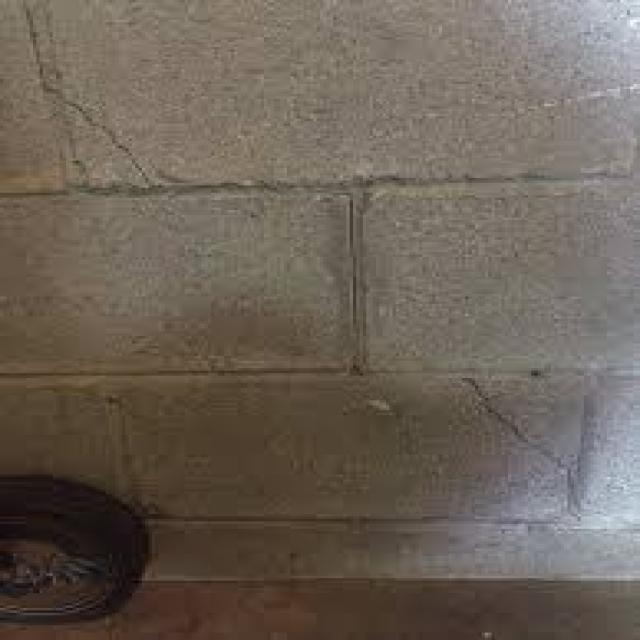Crack: (20, 2, 148, 183), (458, 371, 570, 486)
